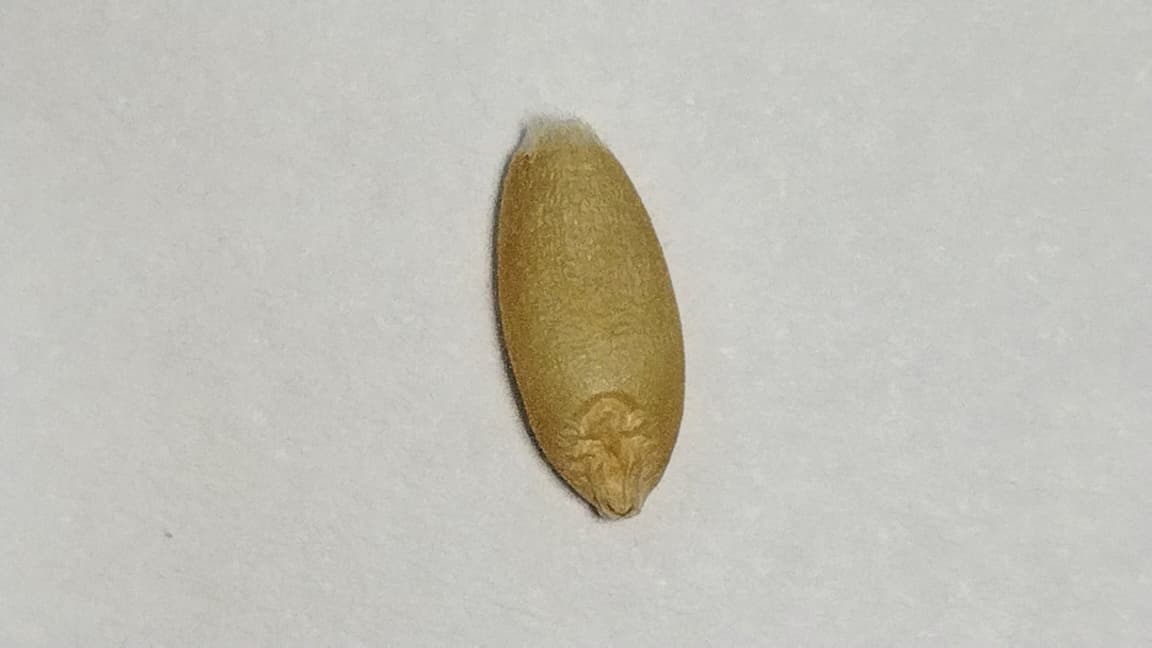healthy: (496, 119, 684, 518)
